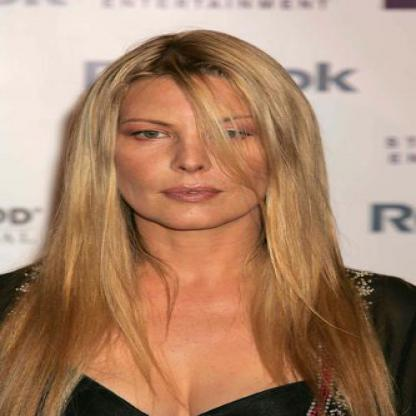long-hair: (30, 232, 360, 296)
